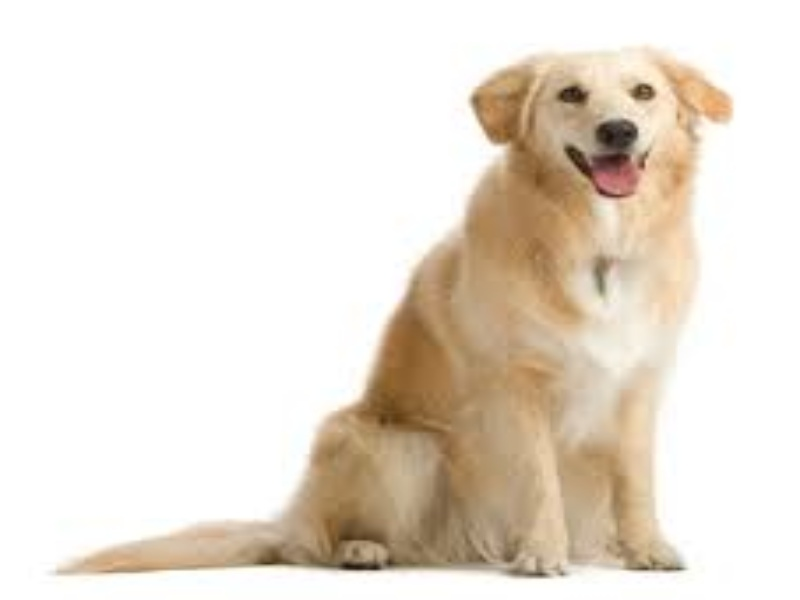dog: (66, 41, 714, 594)
